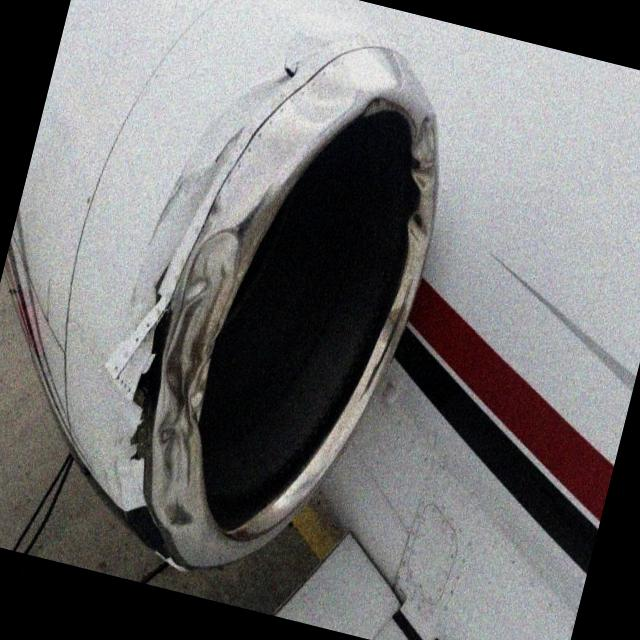dent: (126, 223, 264, 530), (392, 114, 453, 240), (286, 63, 364, 134)
